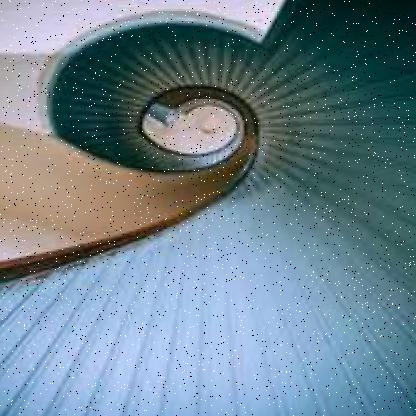stair_down: (49, 261, 326, 413)
